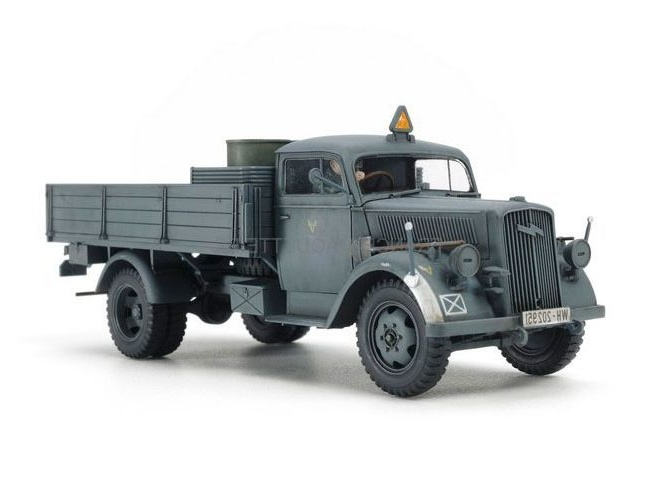license_plate: (523, 305, 571, 330)
